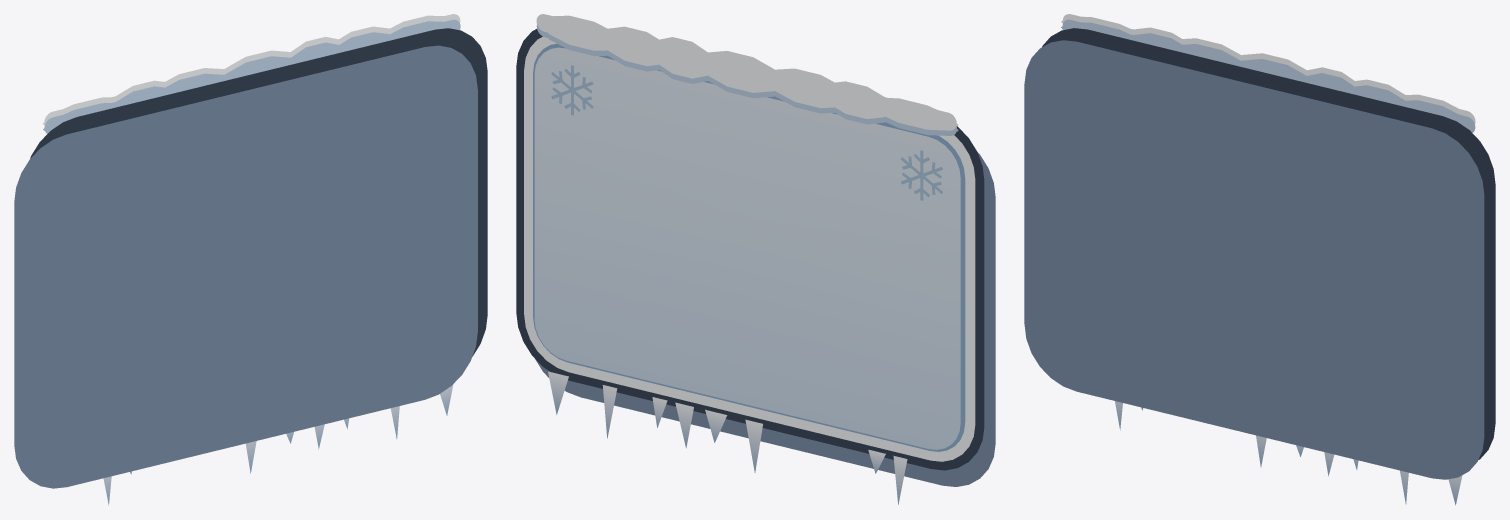
File: ui_card.glb
3 views of the same model, side by side, from view 1: azimuth 30°, elevation 25°; view 2: azimuth 150°, elevation 25°; view 3: azimuth 330°, elevation 25° (orthographic).
Visible parts, largest first — view 1: ui_card; view 2: ui_card; view 3: ui_card.
Part boxes in pixels (x1,y1,x2,y2): ui_card: (14,14,487,505); ui_card: (516,14,995,504); ui_card: (1024,14,1495,505).
Size of the model in its own units: 0.45 by 0.3791 by 0.007.
